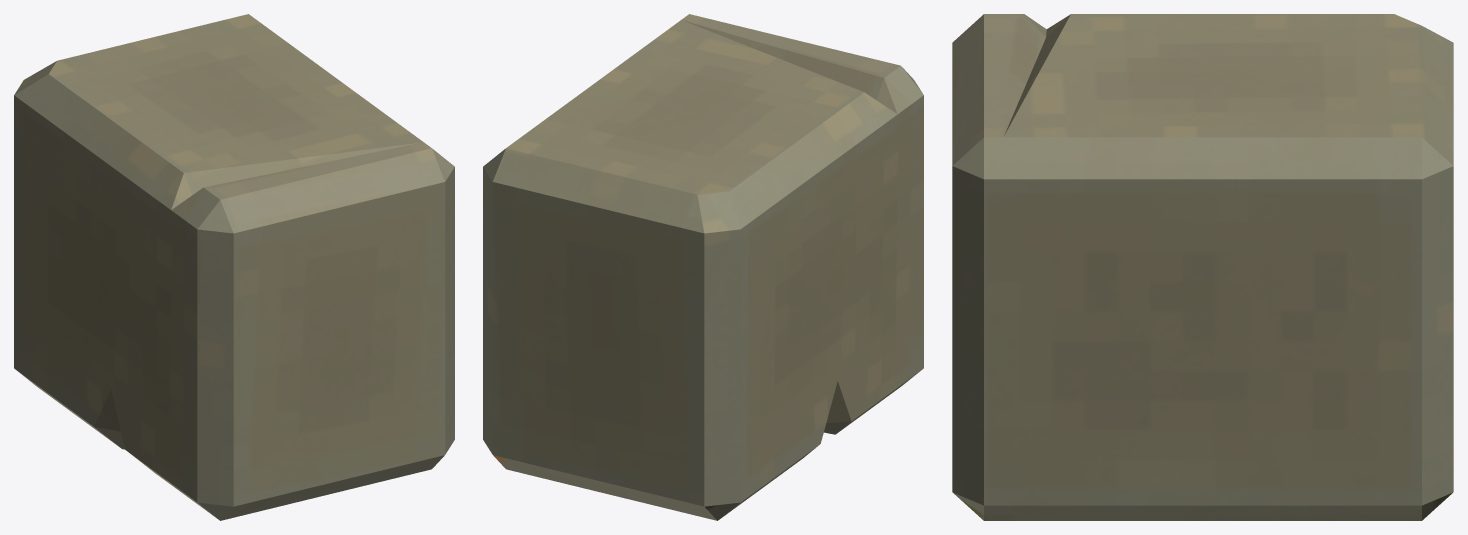
File: Brick_1.fbx
3 renders of one model, left to right at view 1: azimuth 30°, elevation 25°; view 2: azimuth 150°, elevation 25°; view 3: azimuth 270°, elevation 25°, orthographic. The views are drawn at different scales.
Parts seen in each view (by area): view 1: Brick_1; view 2: Brick_1; view 3: Brick_1.
Part boxes in pixels (bbox=[...]): Brick_1: bbox=[14, 14, 454, 520]; Brick_1: bbox=[483, 14, 923, 520]; Brick_1: bbox=[952, 14, 1453, 520].
Size of the model in its own units: 98.65 by 118 by 139.
